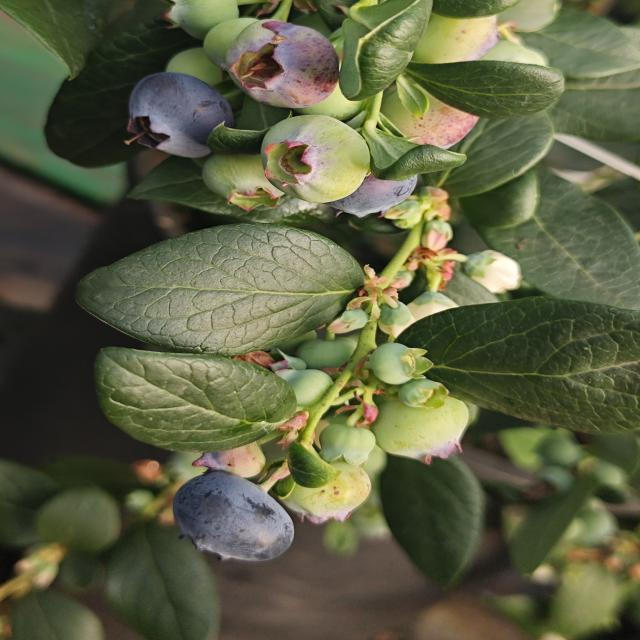ripe: (168, 456, 299, 574), (118, 68, 234, 161), (314, 138, 426, 218)
